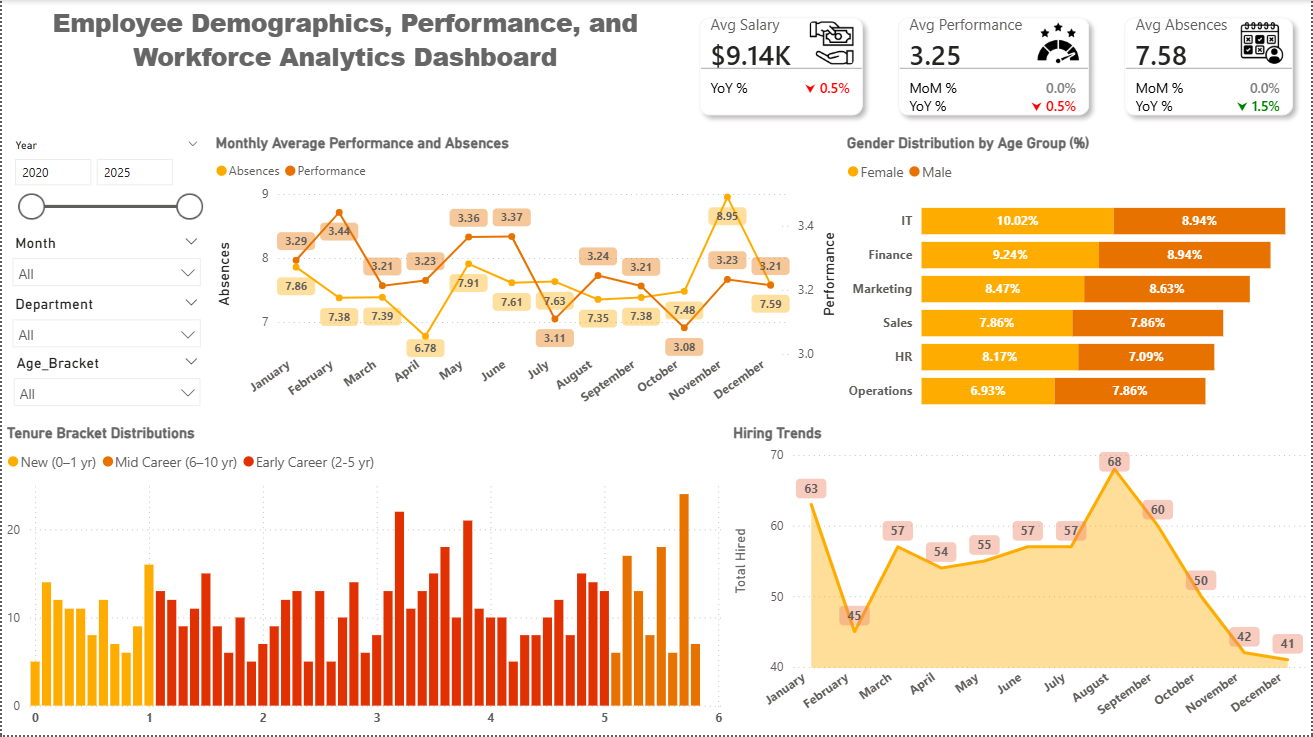

This screenshot's page, from the dashboard's own definition file:
{"tool":"powerbi","page":{"name":"HR Dashboard","canvas":[1280,720],"ordinal":1},"visuals":[{"type":"lineChart","title":"Monthly Average Performance and Absences","fields":{"Y2":["Worksheet.AVG Performane"],"Y":["Worksheet.AVG Absences"],"Category":["Date.Month"]},"box":[204.2,130.8,617.5,283.7],"z":0},{"type":"slicer","fields":{"Values":["Worksheet.Department"]},"box":[0,283.7,204.2,57.5],"z":2000},{"type":"columnChart","title":"Tenure Bracket Distributions","fields":{"Category":["Worksheet.Tenure_Years"],"Series":["Worksheet.Tenure_Bracket"],"Y":["CountNonNull(Worksheet.Tenure_Bracket)"]},"box":[0,414.5,710.5,305.7],"z":3000},{"type":"textbox","box":[0,0,671.5,130.5],"z":4000},{"type":"barChart","title":"Gender Distribution by Age Group (%)","fields":{"Series":["Worksheet.Gender"],"Y":["Worksheet.Total Employee"],"Category":["Worksheet.Department"]},"box":[821.7,130.8,458.6,283.7],"z":5000},{"type":"cardVisual","fields":{"Data":["Worksheet.AVG Salary"]},"box":[665.2,0,194.5,130.5],"z":6000},{"type":"cardVisual","fields":{"Data":["Worksheet.AVG Absences"]},"box":[1081,0,199.3,130.8],"z":7000},{"type":"slicer","fields":{"Values":["Date.Month"]},"box":[0,223.8,204.2,59.9],"z":8000},{"type":"cardVisual","fields":{"Data":["Worksheet.AVG Performane"]},"box":[859.7,0,221.3,130.8],"z":9000},{"type":"lineChart","title":"Hiring Trends","fields":{"Category":["Date.Month"],"Y":["CountNonNull(Worksheet.Hire_Date)"]},"box":[710.8,414.4,569.5,306],"z":10000},{"type":"slicer","fields":{"Values":["Worksheet.Age_Bracket"]},"box":[1.2,341.2,203,73.4],"z":10001},{"type":"slicer","fields":{"Values":["Date.Year"]},"box":[0,130.8,204.2,92.9],"z":10002}]}

Visuals, with their boxes in screenshot pixels (x1, y1, x2, y2), scaled from the page's 1280x720 canvas onto the 1313x737 screenshot:
"Monthly Average Performance and Absences" lineChart: [209,134,843,424]
slicer - Worksheet.Department: [0,290,209,349]
"Tenure Bracket Distributions" columnChart: [0,424,729,736]
textbox: [0,0,689,134]
"Gender Distribution by Age Group (%)" barChart: [843,134,1312,424]
cardVisual - Worksheet.AVG Salary: [682,0,882,134]
cardVisual - Worksheet.AVG Absences: [1109,0,1312,134]
slicer - Date.Month: [0,229,209,290]
cardVisual - Worksheet.AVG Performane: [882,0,1109,134]
"Hiring Trends" lineChart: [729,424,1312,736]
slicer - Worksheet.Age_Bracket: [1,349,209,424]
slicer - Date.Year: [0,134,209,229]
